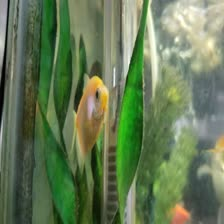Plano: (65, 63, 114, 155)
